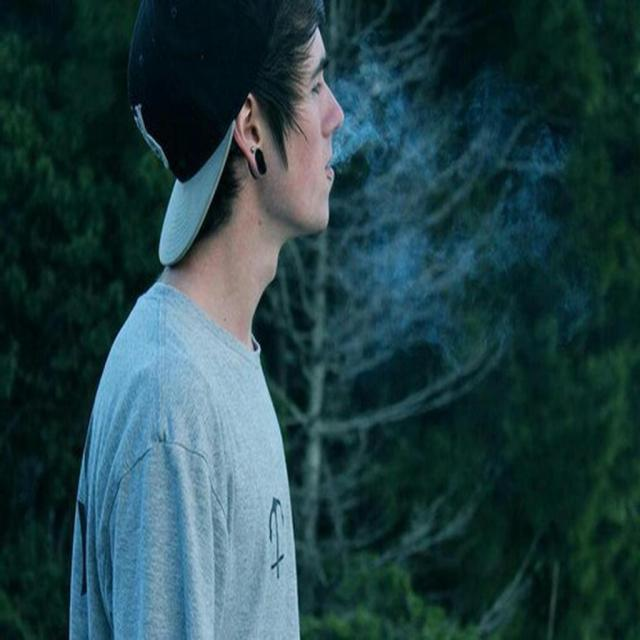smoking: (68, 0, 392, 638)
